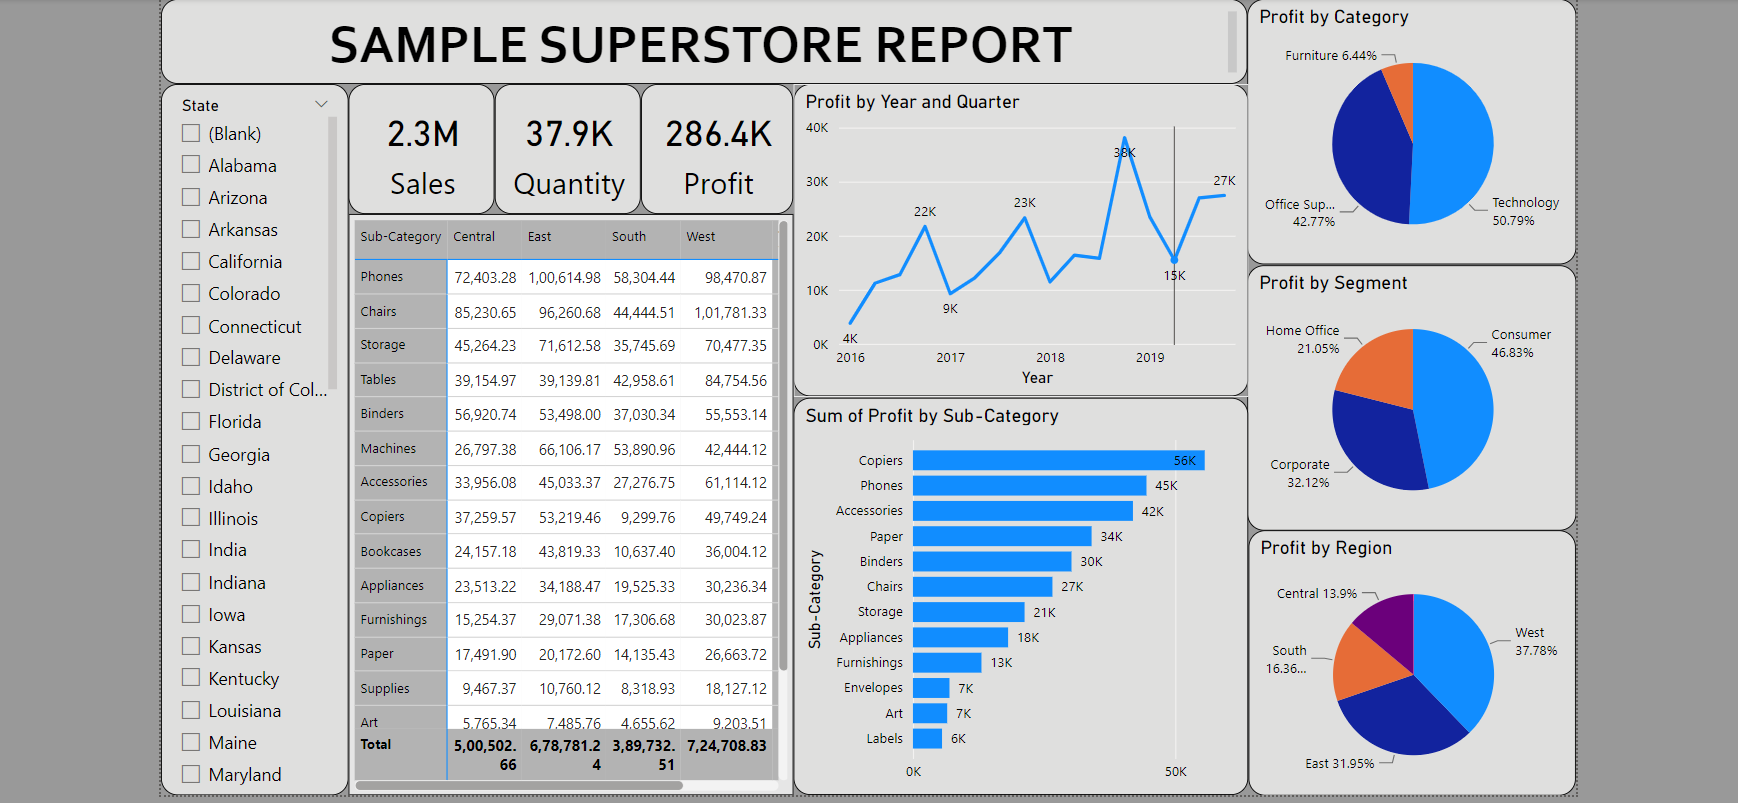

The page's visual inventory and layout, read from the dashboard file:
{"tool":"powerbi","page":{"name":"Page 1","canvas":[1280,720],"ordinal":0},"visuals":[{"type":"textbox","box":[0,0,982.2,76.9],"z":0},{"type":"pieChart","title":"Profit by Category","fields":{"Y":["Sum(Orders.Profit)"],"Category":["Orders.Category"]},"box":[982.2,0,297.3,240],"z":1000},{"type":"pieChart","title":"Profit by Segment","fields":{"Y":["Sum(Orders.Profit)"],"Category":["Orders.Segment"]},"box":[982.2,240.8,297.3,239.6],"z":2000},{"type":"pieChart","title":"Profit by Region","fields":{"Y":["Sum(Orders.Profit)"],"Category":["Orders.Region"]},"box":[983.4,480.4,296.1,239.6],"z":3000},{"type":"lineChart","title":"Profit by Year and Quarter","fields":{"Y":["Sum(Orders.Profit)"],"Category":["Orders.Order Date.Variation.Date Hierarchy.Year","Orders.Order Date.Variation.Date Hierarchy.Quarter"]},"box":[571.9,76.9,411.4,282.6],"z":4000},{"type":"barChart","fields":{"Y":["Sum(Orders.Profit)"],"Category":["Orders.Sub-Category"]},"box":[571.9,360.6,411.4,359.4],"z":5000},{"type":"slicer","fields":{"Values":["Orders.State"]},"box":[0,76.7,169.8,643],"z":6000},{"type":"card","fields":{"Values":["Sum(Orders.Sales)"]},"box":[169.5,76.9,132.2,117.6],"z":7000},{"type":"card","fields":{"Values":["Sum(Orders.Profit)"]},"box":[434,76.9,137.9,117.6],"z":8000},{"type":"card","fields":{"Values":["Sum(Orders.Quantity)"]},"box":[301.8,76.9,132.2,117.6],"z":9000},{"type":"pivotTable","fields":{"Rows":["Orders.Sub-Category"],"Columns":["Orders.Region"],"Values":["Sum(Orders.Sales)"]},"box":[169.5,194.4,402.4,525.6],"z":10000}]}

Visuals, with their boxes in screenshot pixels (x1, y1, x2, y2):
textbox: [left=158, top=0, right=1236, bottom=80]
"Profit by Category" pieChart: [left=1236, top=0, right=1562, bottom=259]
"Profit by Segment" pieChart: [left=1236, top=260, right=1562, bottom=523]
"Profit by Region" pieChart: [left=1237, top=523, right=1562, bottom=786]
"Profit by Year and Quarter" lineChart: [left=786, top=80, right=1237, bottom=390]
barChart - Sum(Orders.Profit) x Orders.Sub-Category: [left=786, top=391, right=1237, bottom=786]
slicer - Orders.State: [left=158, top=80, right=345, bottom=785]
card - Sum(Orders.Sales): [left=344, top=80, right=489, bottom=209]
card - Sum(Orders.Profit): [left=635, top=80, right=786, bottom=209]
card - Sum(Orders.Quantity): [left=490, top=80, right=635, bottom=209]
pivotTable - Orders.Sub-Category x Orders.Region: [left=344, top=209, right=786, bottom=786]
